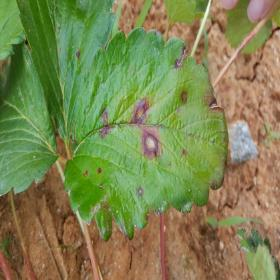Leaf Spot: (62, 27, 228, 243), (17, 0, 117, 151)
